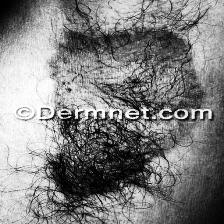Non-Cancerous Skin Condition: (20, 5, 224, 104), (27, 126, 224, 212)
